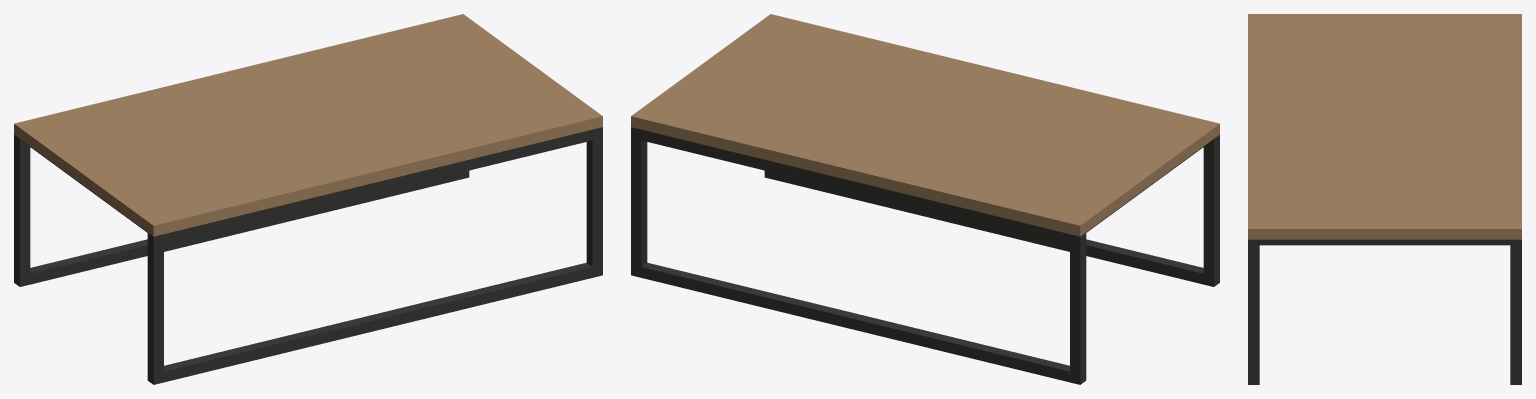
Rendered from Akademik_stolik 1.fbx.
The picture shows the model from 3 angles, left to right: view 1: azimuth 30°, elevation 25°; view 2: azimuth 150°, elevation 25°; view 3: azimuth 270°, elevation 25°; orthographic projection.
Visible parts, largest first — view 1: Group1; view 2: Group1; view 3: Group1.
Part boxes in pixels (box(x1,y1,x2,y2)): Group1: box(14, 14, 602, 384); Group1: box(631, 14, 1219, 384); Group1: box(1248, 14, 1521, 384).
Size of the model in its own units: 1.3 by 0.44 by 0.7.
